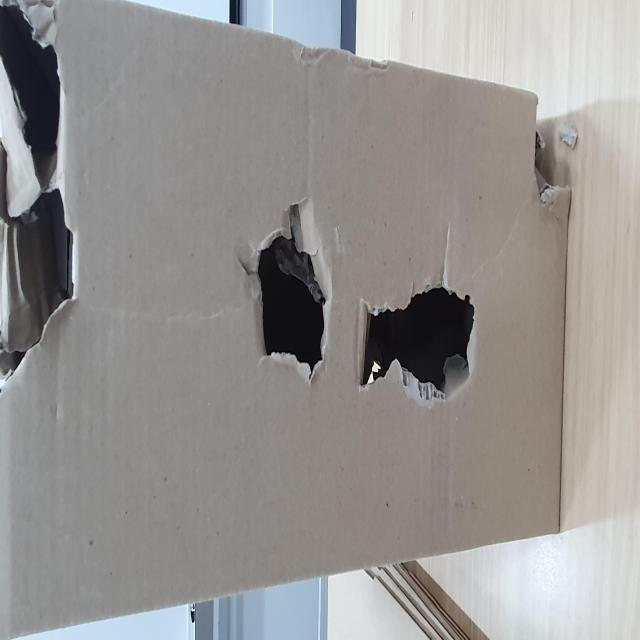damaged: (133, 0, 360, 151), (140, 442, 258, 605), (132, 622, 204, 640)
